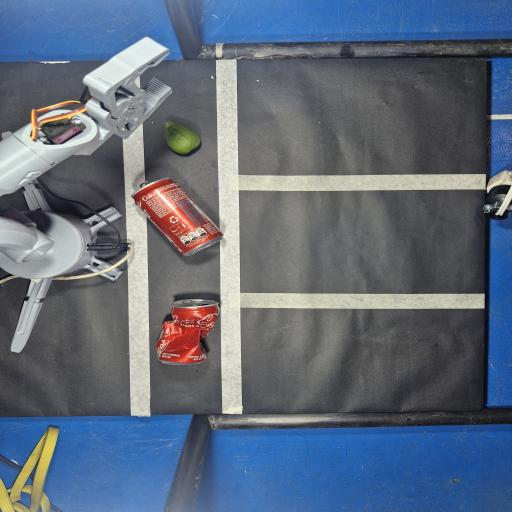higo: (165, 121, 200, 154)
lata: (132, 179, 223, 255)
lata_defectuoso: (156, 299, 219, 365)
